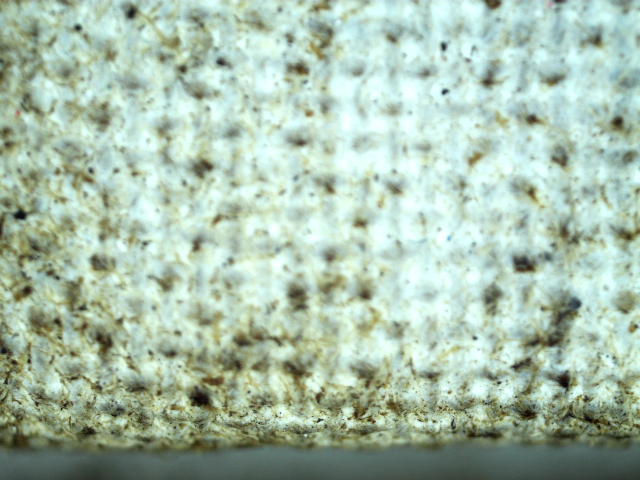ovo: (213, 298, 249, 328)
